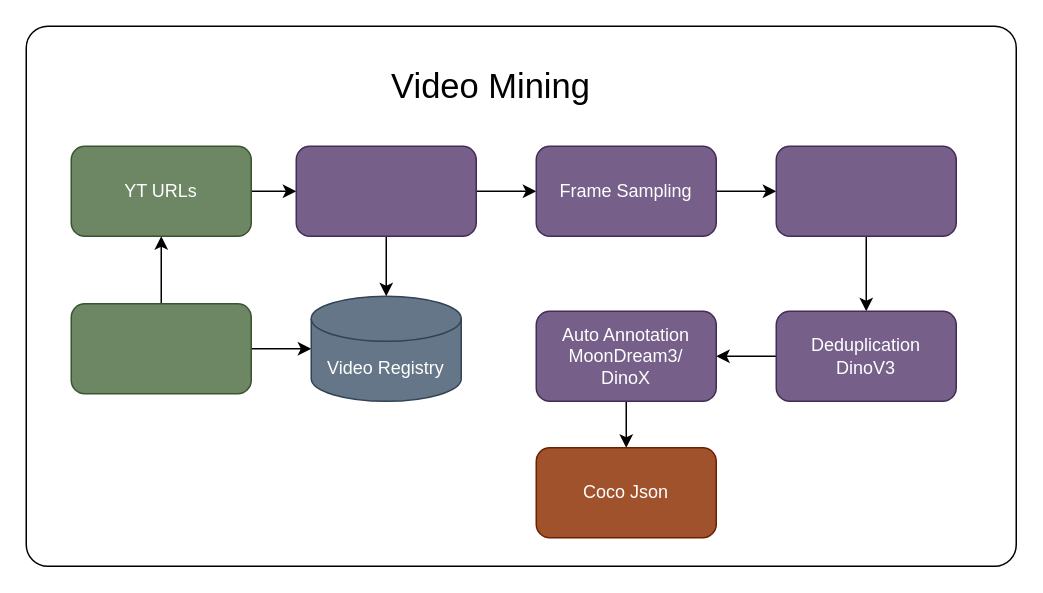
Image size: 1043x593. Some labels were removed from this diagram. The centre of each missing label's shape, as x and y in pixels:
"Semantic Filter SigLip2" goes at (865,190).
"YT Download" goes at (385,190).
"YT Search" goes at (160,348).
